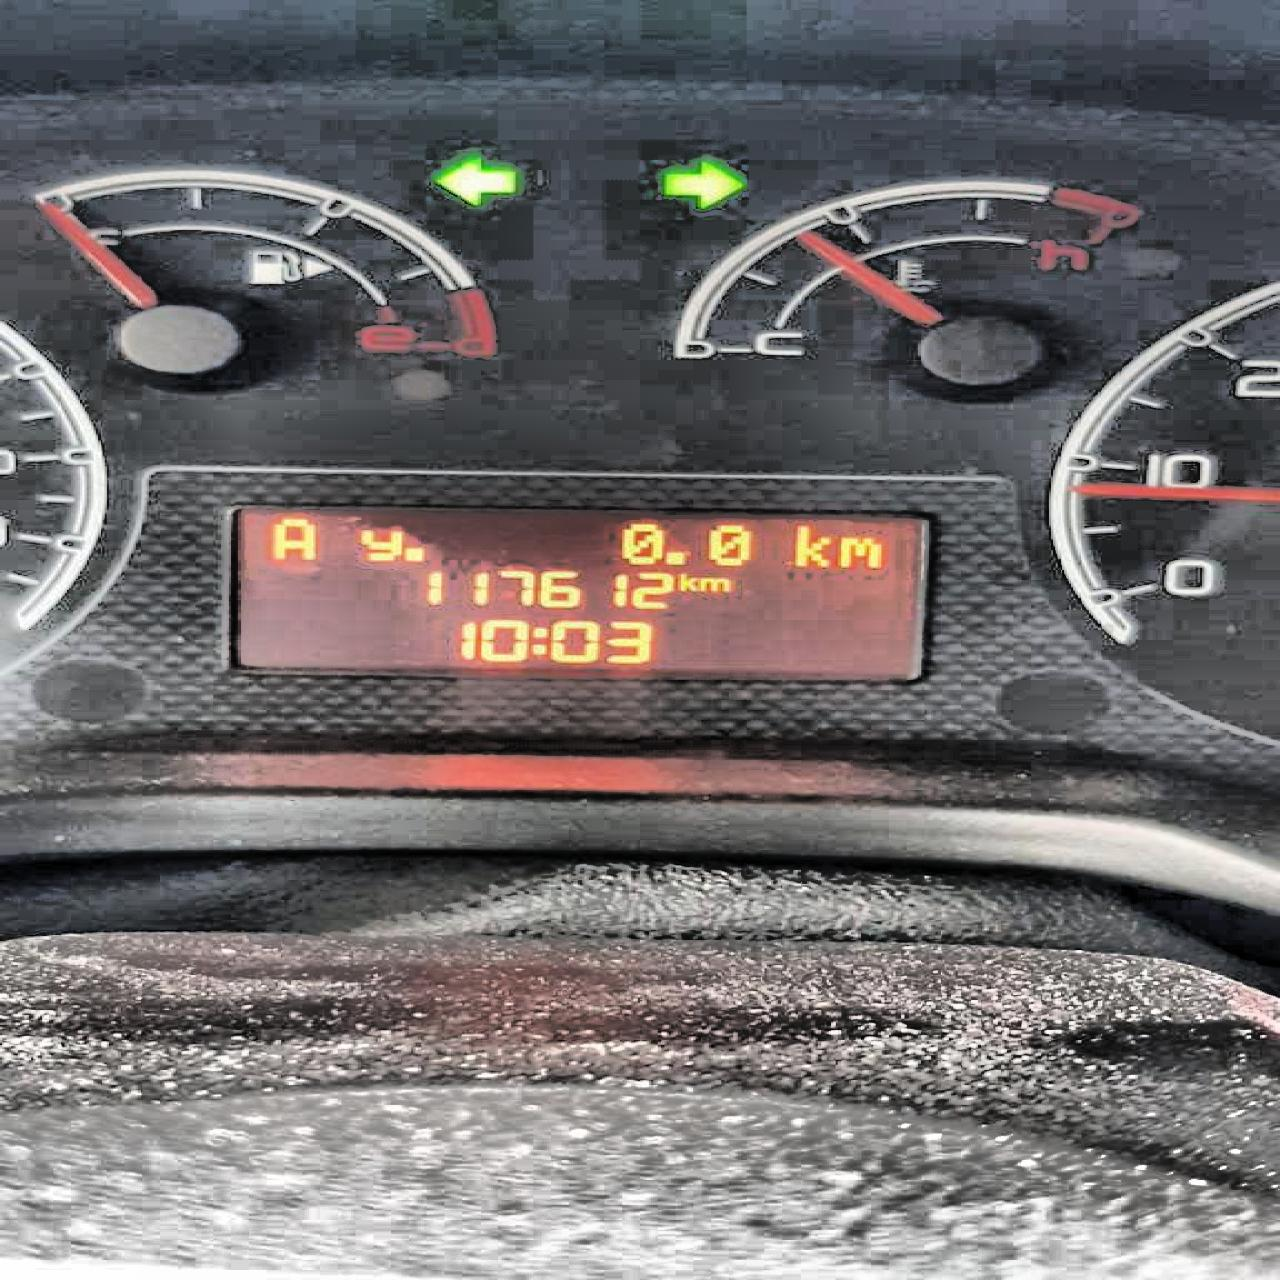-: (662, 550, 689, 566), (400, 545, 424, 563)
0: (546, 618, 600, 663), (702, 520, 754, 567), (478, 617, 529, 662), (615, 519, 662, 566)
1: (415, 567, 449, 607), (462, 568, 489, 607), (602, 570, 628, 610), (451, 619, 476, 660)
2: (628, 570, 675, 610)
3: (602, 619, 651, 663)
6: (536, 568, 585, 610)
7: (491, 567, 533, 606)
X: (264, 513, 318, 561), (784, 522, 833, 567), (836, 533, 885, 568), (353, 526, 400, 563), (696, 576, 731, 593), (529, 625, 547, 655), (675, 568, 695, 592)
odometer: (216, 498, 935, 683)
